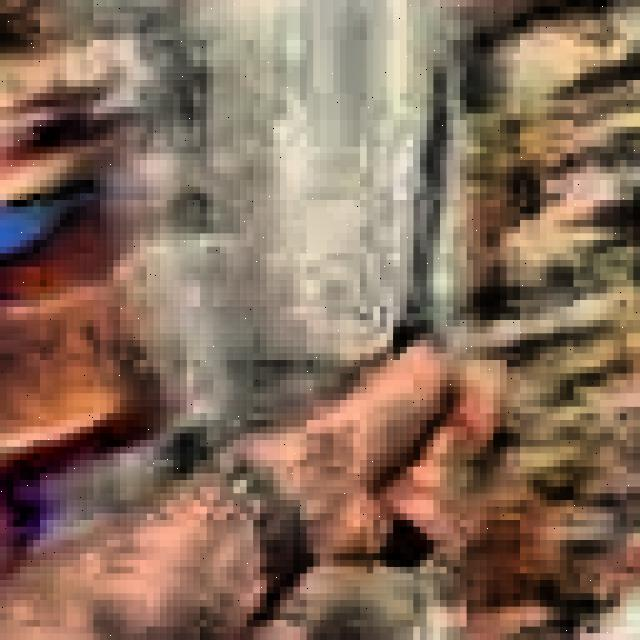knife: (386, 64, 454, 576)
